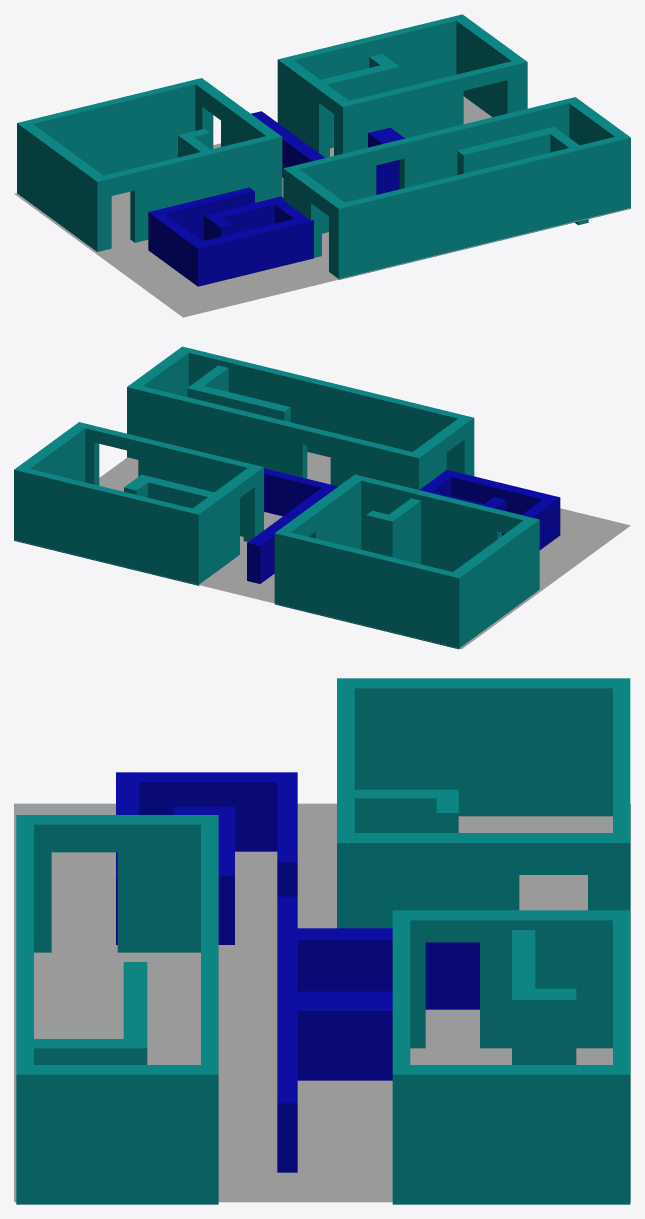
File: A2_Map.fbx
3 views of the same model, one above another, from view 1: azimuth 30°, elevation 25°; view 2: azimuth 150°, elevation 25°; view 3: azimuth 270°, elevation 25° (orthographic). The views are drawn at different scales.
Parts seen in each view (by area): view 1: pCube1, pCube3, pCube2, pCube10, pPlane1, pCube8, pCube7, pCube6; view 2: pCube3, pCube1, pCube2, pCube10, pPlane1, pCube6, pCube8, pCube7; view 3: pPlane1, pCube3, pCube2, pCube1, pCube10, pCube7, pCube8, pCube6.
Boxes of the visible parts, x1,y1,x2,y2 form: pCube1: (283,97,630,279); pCube3: (17,78,282,251); pCube2: (277,14,527,157); pCube10: (148,111,404,286); pPlane1: (14,96,630,317); pCube8: (457,127,588,225); pCube7: (321,54,399,148); pCube6: (178,129,210,157); pCube3: (274,474,539,649); pCube1: (127,346,474,489); pCube2: (14,422,263,585); pCube10: (247,468,560,583); pPlane1: (20,452,630,648); pCube6: (366,498,420,564); pCube8: (187,365,290,422); pCube7: (124,474,213,508); pPlane1: (14,803,630,1202); pCube3: (337,678,630,928); pCube2: (392,910,630,1204); pCube1: (16,815,218,1204); pCube10: (116,772,479,1172); pCube7: (512,930,576,1064); pCube8: (34,962,147,1064); pCube6: (354,789,458,832).
Bounding box in the file's own units: 49.85 × 8.11 × 32.58.
